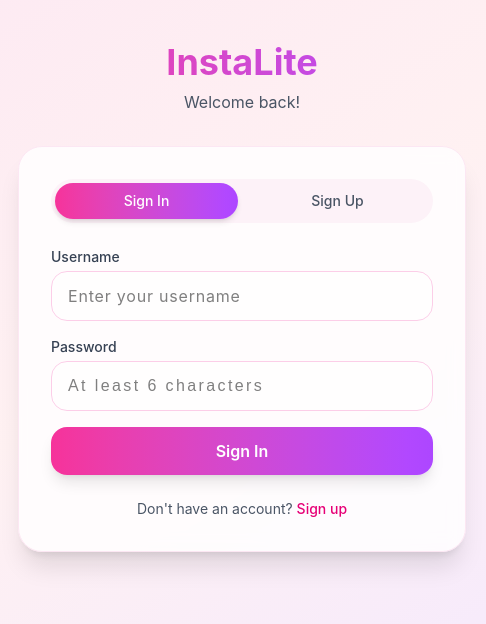
Authentication › shows error with invalid credentials
The width and height of the screenshot is (486, 624).
Step 1. Type "invaliduser" into the field with id "username" → (242, 296), box [51,271,433,321]
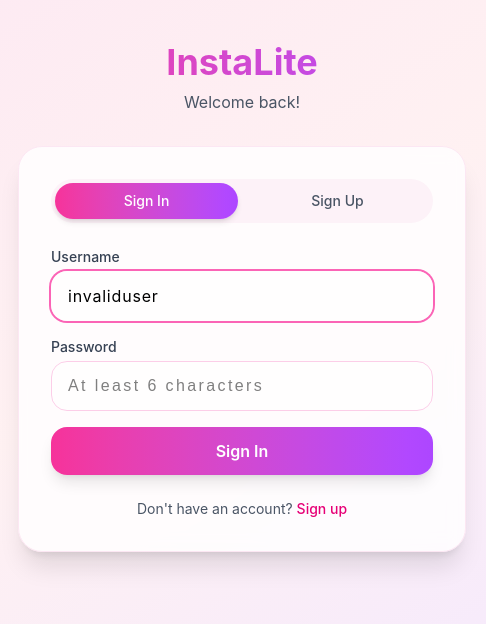
Step 2. Type "wrongpassword" into the password field labelled "Password" → (242, 386), box [51,361,433,411]
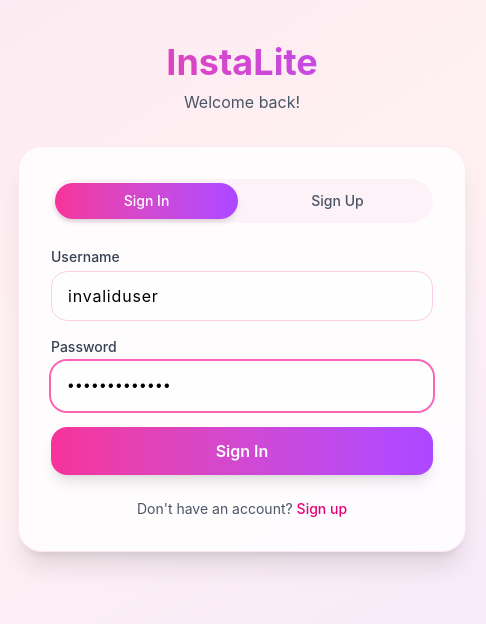
Step 3. Click the submit button → (242, 451), box [51,427,433,475]
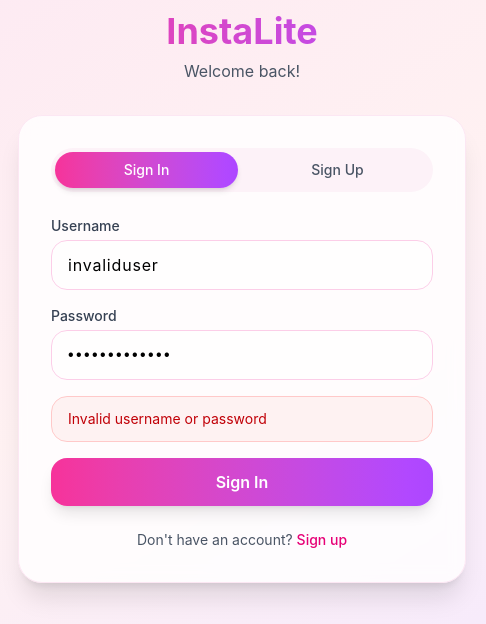
Expected: the text "Invalid username or password" is shown, [51,396,433,442]
